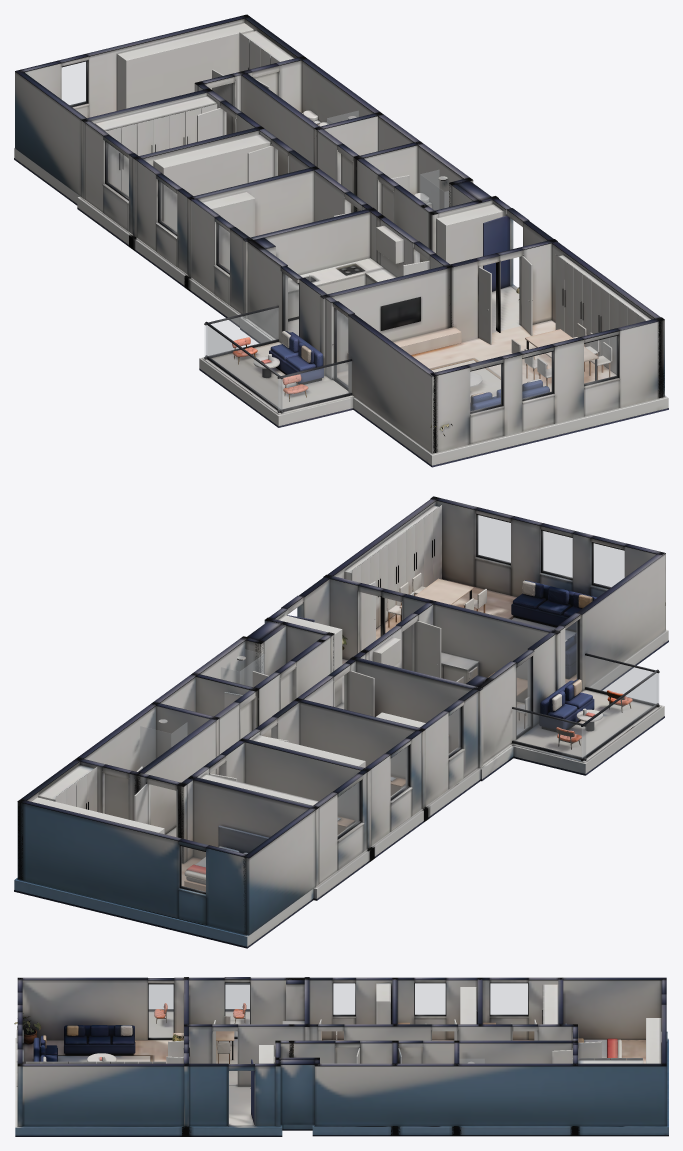
3 views of the same model, one above another, from view 1: azimuth 30°, elevation 25°; view 2: azimuth 150°, elevation 25°; view 3: azimuth 270°, elevation 25° (orthographic). The views are drawn at different scales.
Visible parts, largest first — view 1: plan, railg2_m, railg1_m, railg0_m, glass8_m, glass6_m, glass7_m, glass0_m, glass1_m, glass4_m, glass5_m, glass2_m (+1 smaller); view 2: plan, railg2_m, railg0_m, railg1_m, glass8_m, glass7_m, glass6_m, glass0_m, glass4_m, sg.001_m, glass1_m, glass5_m (+1 smaller); view 3: plan, glass5_m, glass1_m, railg2_m, glass4_m, glass2_m, glass3_m.
Boxes of the visible parts, <box> form: plan: <box>14,14,668,467</box>; railg2_m: <box>206,325,282,410</box>; railg1_m: <box>278,361,351,410</box>; railg0_m: <box>205,308,278,356</box>; glass8_m: <box>584,336,617,383</box>; glass6_m: <box>470,364,501,411</box>; glass7_m: <box>522,352,552,398</box>; glass0_m: <box>62,62,86,105</box>; glass1_m: <box>107,143,128,197</box>; glass4_m: <box>284,274,298,335</box>; glass5_m: <box>336,309,347,385</box>; glass2_m: <box>160,182,176,232</box>; plan: <box>14,496,668,948</box>; railg2_m: <box>582,673,657,758</box>; railg0_m: <box>512,709,585,757</box>; railg1_m: <box>585,656,658,704</box>; glass8_m: <box>477,515,510,562</box>; glass7_m: <box>542,531,572,577</box>; glass6_m: <box>593,543,624,587</box>; glass0_m: <box>181,846,205,891</box>; glass4_m: <box>517,658,530,735</box>; sg.001_m: <box>140,726,171,767</box>; glass1_m: <box>338,782,359,836</box>; glass5_m: <box>565,621,577,683</box>; plan: <box>14,977,668,1136</box>; glass5_m: <box>149,984,173,1037</box>; glass1_m: <box>490,983,527,1014</box>; railg2_m: <box>149,985,249,1008</box>; glass4_m: <box>225,983,249,1036</box>; glass2_m: <box>415,983,445,1014</box>; glass3_m: <box>333,983,354,1014</box>.
Size of the model in its own units: 9.53 by 2.62 by 22.3.
2 materials, 1 textured.
